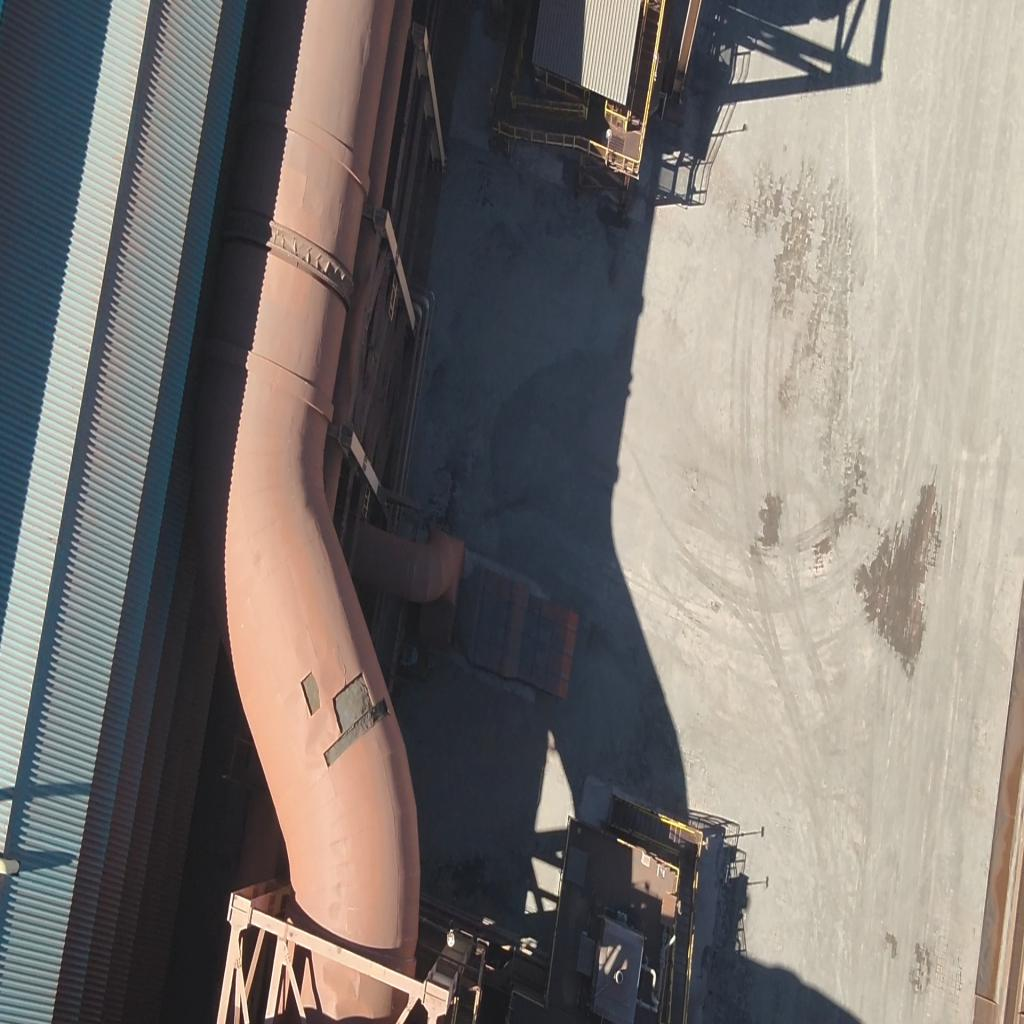Failures: (326, 672, 390, 770), (302, 673, 321, 718)
